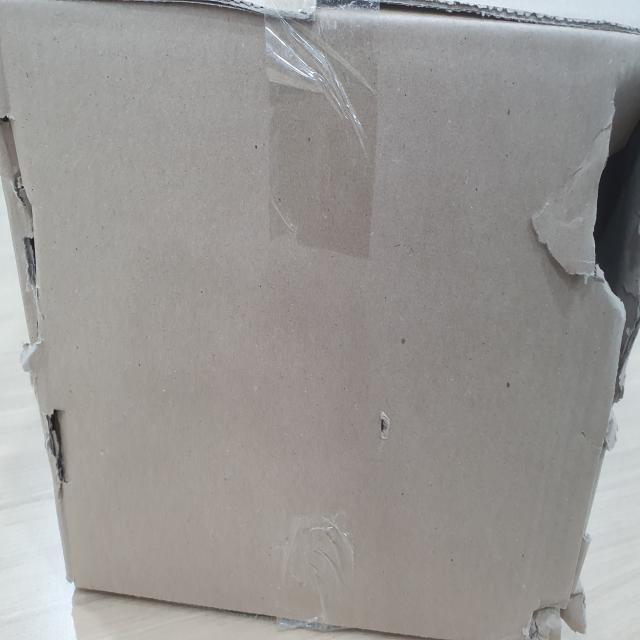hole: (587, 28, 639, 382), (1, 116, 60, 354), (520, 590, 599, 640), (40, 402, 70, 492)
